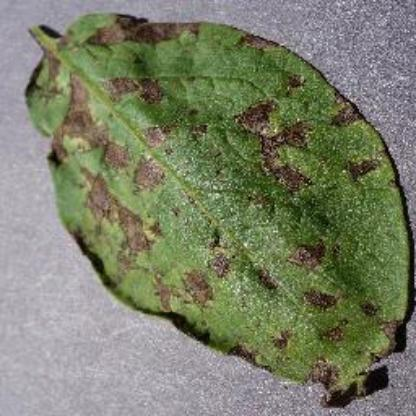Early-Blight: (23, 12, 416, 406)
